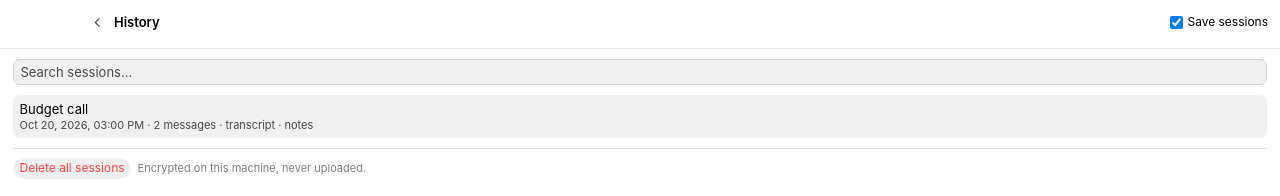
Test: HistoryPanel › should list sessions and search them
The image size is (1280, 196).
Expected: the text "Budget call" is shown, [20, 101, 88, 117]
Expected: the text "Oct 20, 2026, 03:00 PM · 2 messages · transcript · notes" is shown, [20, 118, 313, 132]
Type "deadline" into the search field labelled "Search sessions".
click(640, 72); type("deadline")  # box [13, 59, 1267, 86]
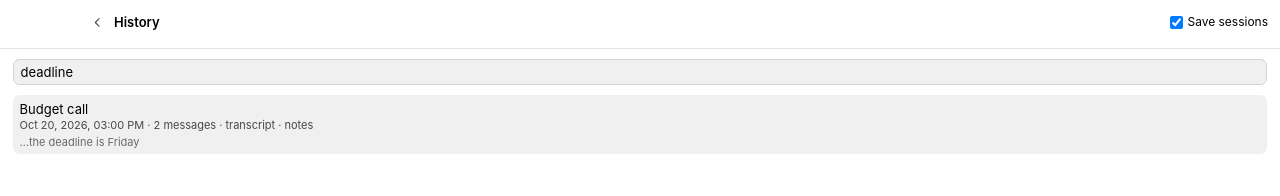
Expected: the text "…the deadline is Friday" is shown, [20, 135, 140, 149]
